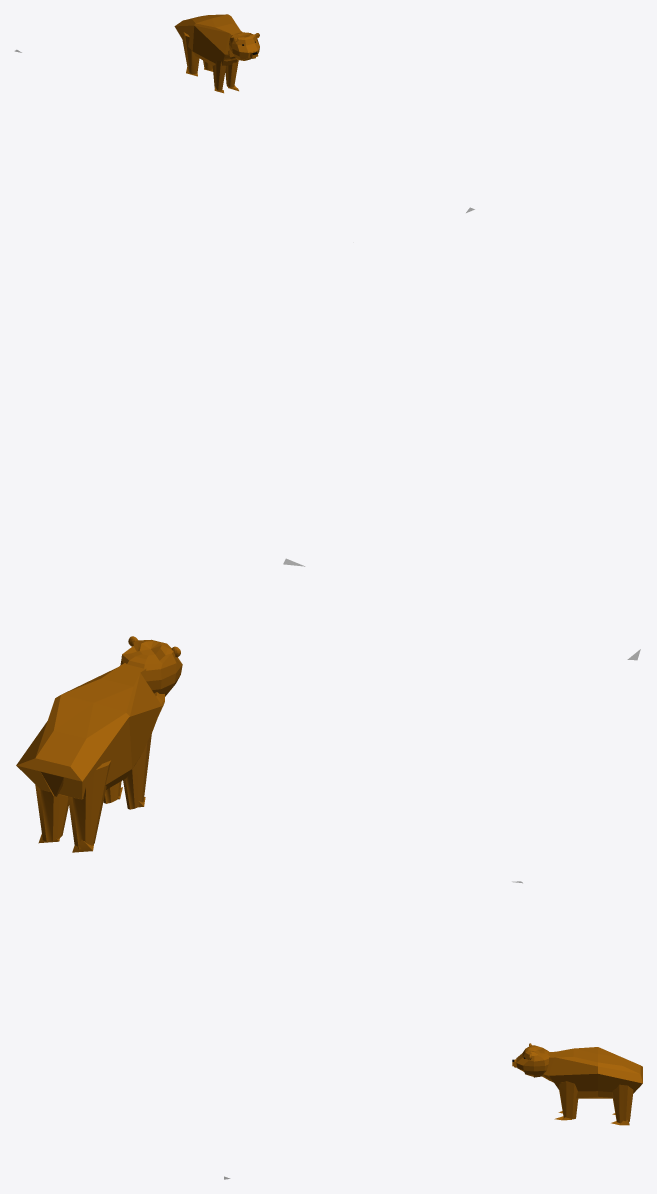
The model's file is Baer.fbx.
3 views of the same model, one above another, from view 1: azimuth 30°, elevation 25°; view 2: azimuth 150°, elevation 25°; view 3: azimuth 270°, elevation 25° (orthographic). The views are drawn at different scales.
Parts seen in each view (by area): view 1: pSphere10, pSphere6, pasted__pasted__pasted__pasted__pasted__pasted__pCylinder1, pasted__pasted__pasted__pasted__pasted__pCylinder1; view 2: pSphere10, pasted__pasted__pasted__pasted__pasted__pCylinder1 (×2), pSphere6, pasted__pasted__pasted__pasted__pasted__pasted__pCylinder1; view 3: pSphere10, pSphere6, pasted__pasted__pasted__pasted__pasted__pCylinder1, pasted__pasted__pasted__pasted__pasted__pasted__pCylinder1.
Boxes of the visible parts, x1,y1,x2,y2 form: pSphere10: (174,14,242,65); pSphere6: (229,32,259,60); pasted__pasted__pasted__pasted__pasted__pasted__pCylinder1: (181,32,199,73); pasted__pasted__pasted__pasted__pasted__pCylinder1: (212,60,226,90); pSphere10: (16,663,161,799); pasted__pasted__pasted__pasted__pasted__pCylinder1 (×2): (35,732,151,841); pSphere6: (120,639,182,696); pasted__pasted__pasted__pasted__pasted__pasted__pCylinder1: (68,760,111,849); pSphere10: (543,1047,642,1098); pSphere6: (516,1045,549,1077); pasted__pasted__pasted__pasted__pasted__pCylinder1: (612,1084,633,1122); pasted__pasted__pasted__pasted__pasted__pasted__pCylinder1: (559,1081,578,1119).
Size of the model in its own units: 11.79 by 3.92 by 16.01.
